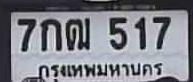1: (134, 16, 145, 49)
5: (109, 16, 126, 49)
7: (17, 18, 35, 51), (152, 16, 170, 49)
A01: (40, 18, 61, 50)
A18: (65, 17, 89, 50)
BKK: (34, 59, 166, 81)
